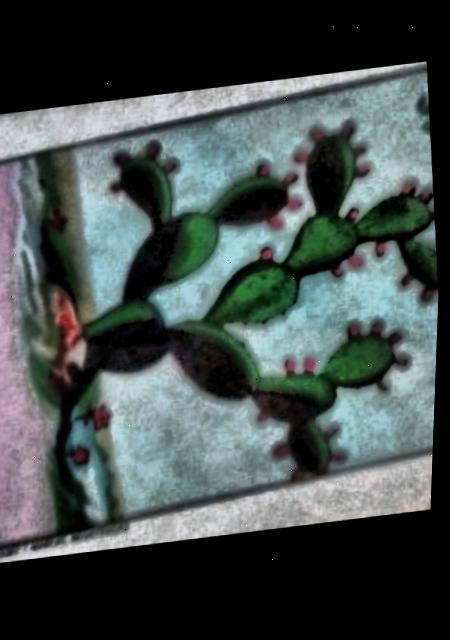El Nopal: (0, 74, 441, 552)
